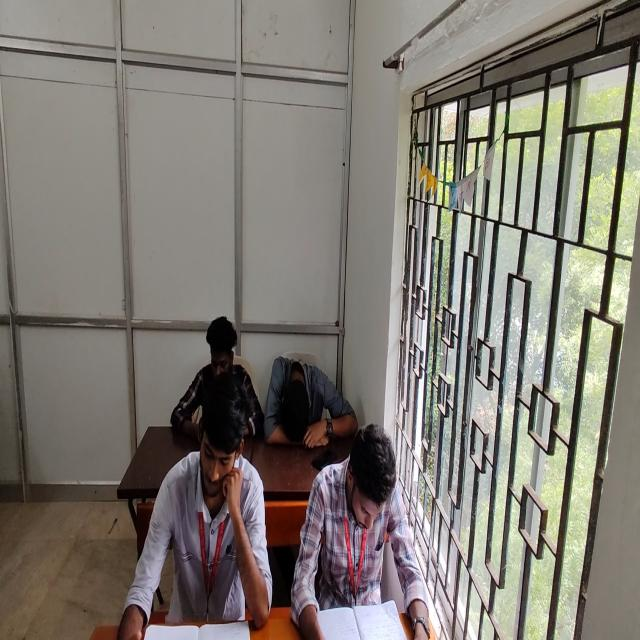reading: (120, 369, 272, 640), (294, 423, 420, 640)
sleeping: (263, 356, 353, 448)
using_mobile: (170, 313, 264, 442)
